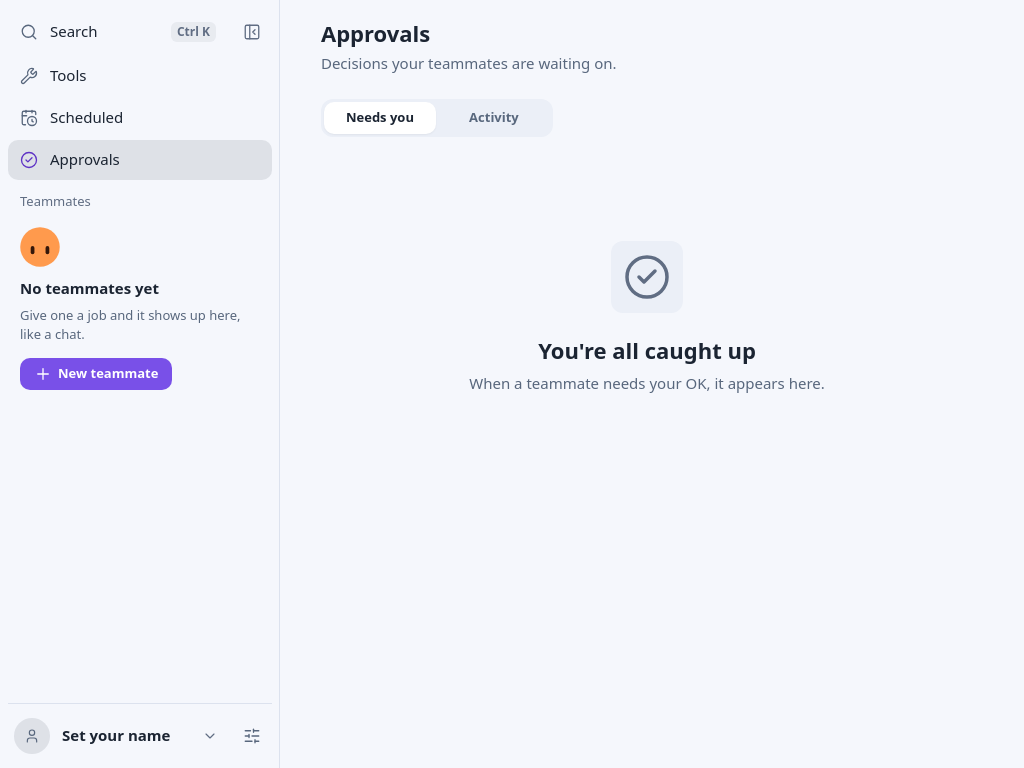
Test: teammates in the sidebar › invites the first teammate when there are none, with one primary action
The width and height of the screenshot is (1024, 768).
Expected: the text "No teammates yet" is shown, [20,277,159,300]
What coordinates should you click on to do the following:
click the button "New teammate"
I would click on:
 (96, 374)
Its box is [20,358,172,390].
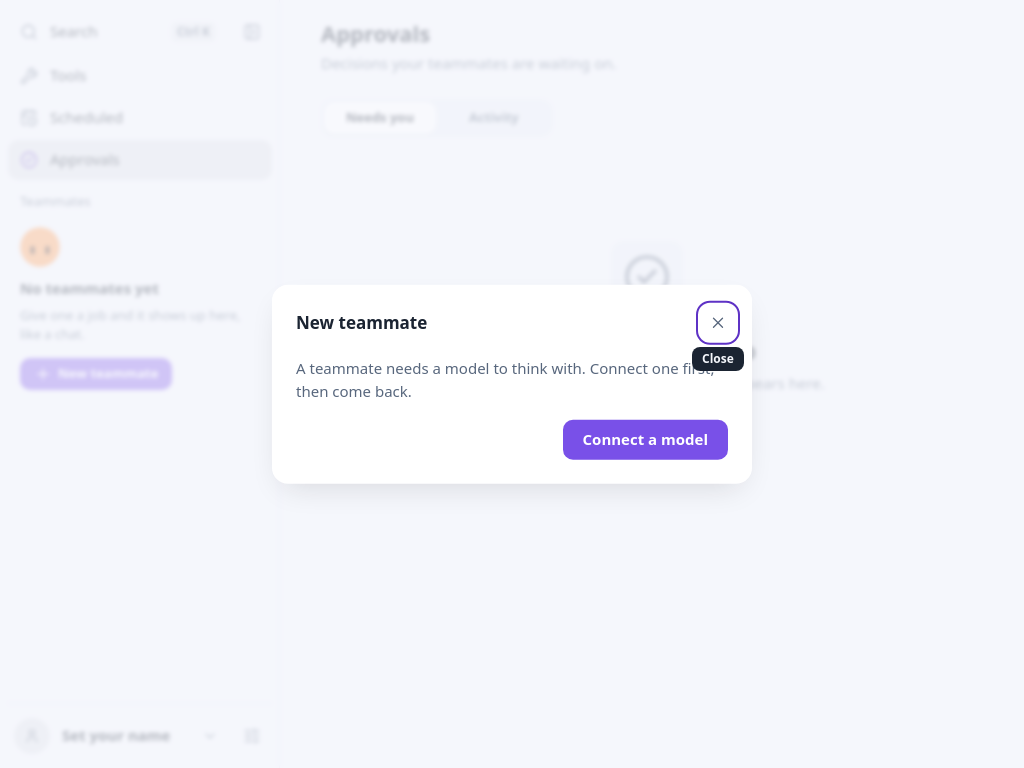
Result: the dialog "New teammate" is shown at [272,285,752,483]
